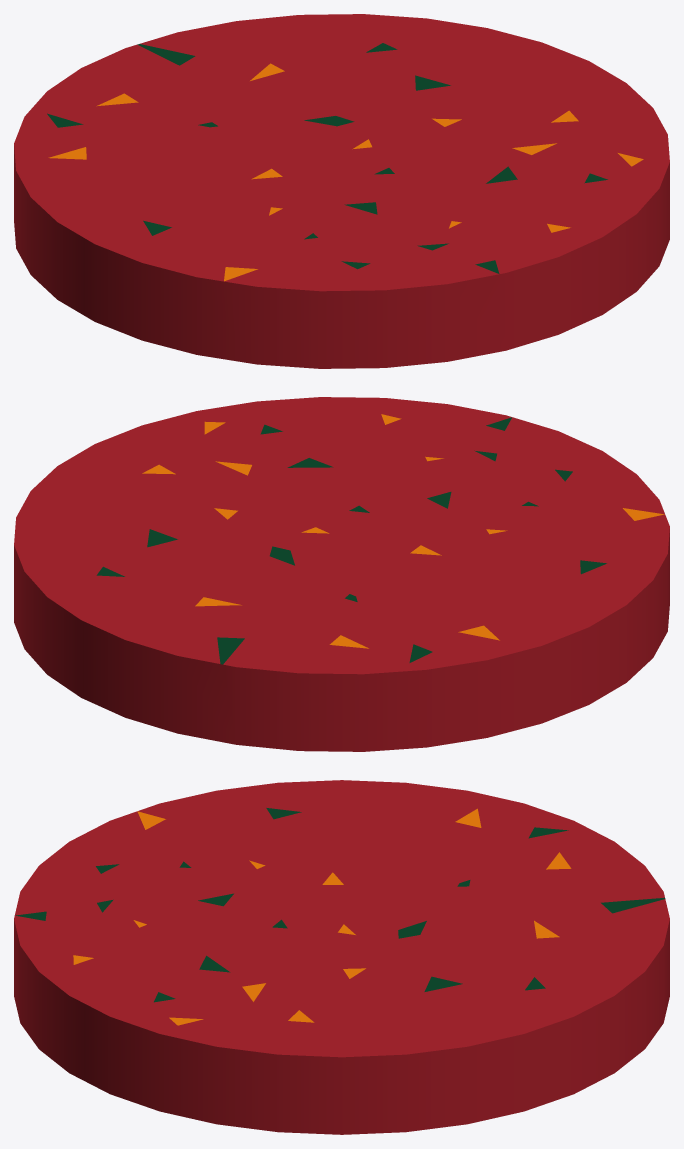
Rendered from groentenburger (1).fbx.
3 views of the same model, one above another, from view 1: azimuth 30°, elevation 25°; view 2: azimuth 150°, elevation 25°; view 3: azimuth 270°, elevation 25° (orthographic).
Parts seen in each view (by area): view 1: Cylinder; view 2: Cylinder; view 3: Cylinder.
Boxes of the visible parts, x1,y1,x2,y2 form: Cylinder: (14,14,669,368); Cylinder: (14,397,669,751); Cylinder: (14,780,669,1134).
Bounding box in the file's own units: 185 × 24.11 × 185.
